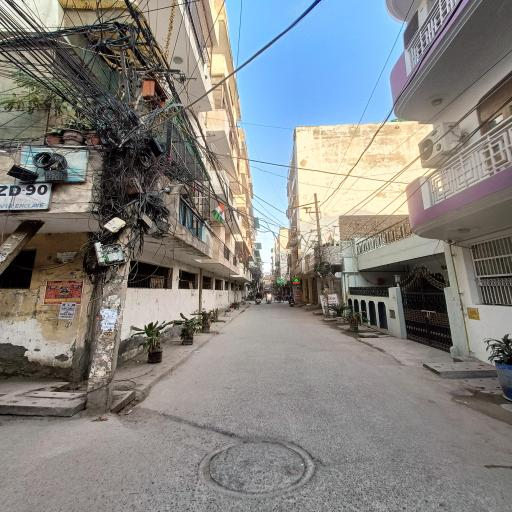building: (1, 2, 264, 424), (412, 5, 511, 237), (340, 242, 455, 346), (289, 124, 399, 224)
electric_pole: (34, 14, 212, 421), (298, 186, 338, 292)
